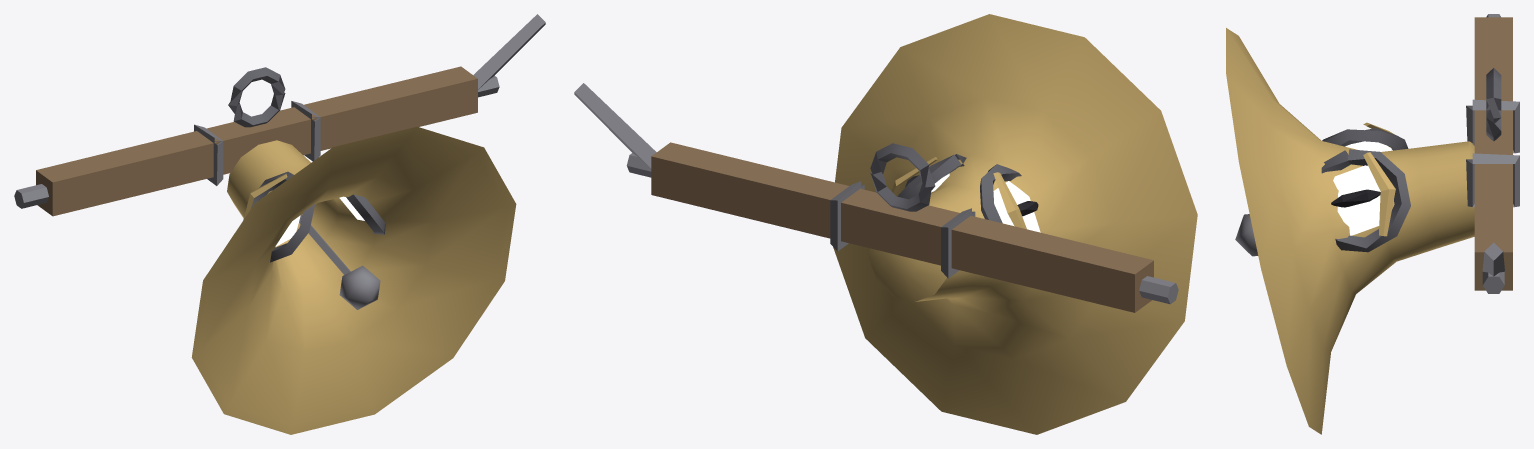
Rendered from bell-tell-bell.glb.
3 views of the same model, side by side, from view 1: azimuth 30°, elevation 25°; view 2: azimuth 150°, elevation 25°; view 3: azimuth 270°, elevation 25° (orthographic). The views are drawn at different scales.
Parts seen in each view (by area): view 1: bell_tell_bell; view 2: bell_tell_bell; view 3: bell_tell_bell.
Boxes of the visible parts, bbox=[...] form: bell_tell_bell: bbox=[14, 14, 545, 434]; bell_tell_bell: bbox=[574, 14, 1197, 434]; bell_tell_bell: bbox=[1226, 14, 1519, 434].
Size of the model in its own units: 1.16 by 0.6717 by 0.4955.
